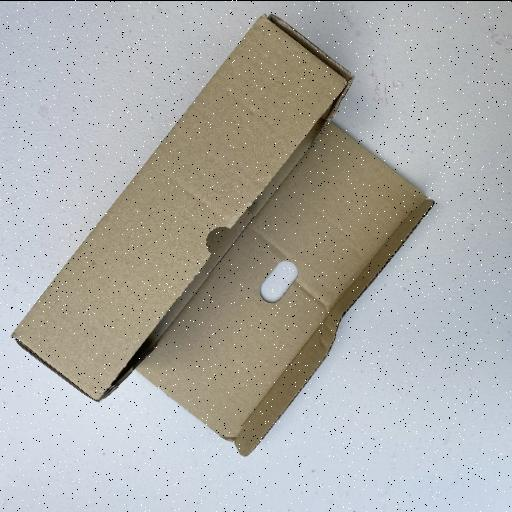Cardboard: (8, 12, 356, 404), (133, 118, 436, 458)
